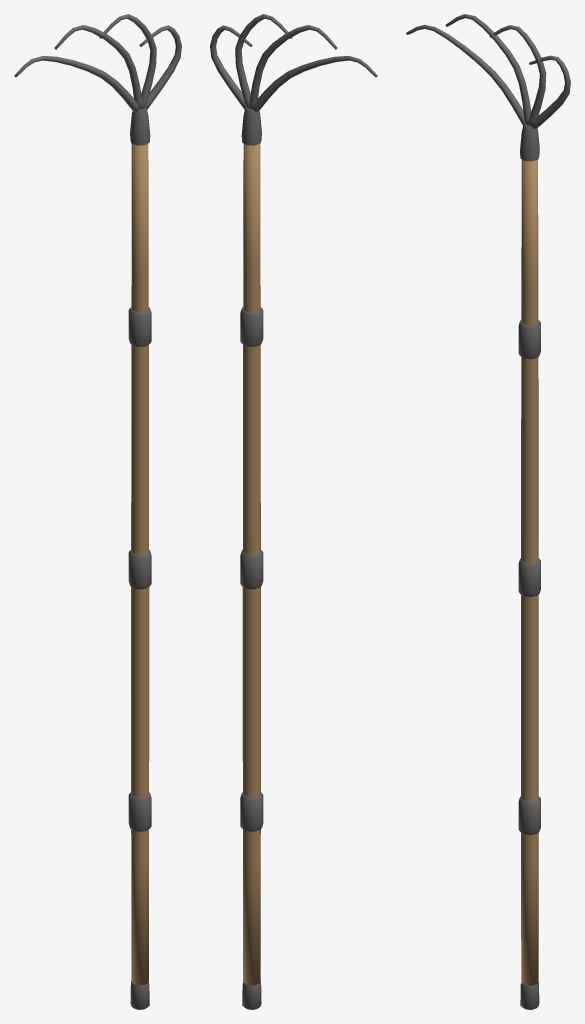
File: collapsible-kumade.glb
3 renders of one model, left to right at view 1: azimuth 30°, elevation 25°; view 2: azimuth 150°, elevation 25°; view 3: azimuth 330°, elevation 25°, orthographic.
Visible parts, largest first — view 1: collapsible-kumade; view 2: collapsible-kumade; view 3: collapsible-kumade.
Part boxes in pixels (box(x1,y1,x2,y2)): collapsible-kumade: box(14, 14, 181, 1009); collapsible-kumade: box(210, 14, 377, 1009); collapsible-kumade: box(406, 14, 570, 1009).
Bounding box in the file's own units: 0.7235 × 4.11 × 0.088.
